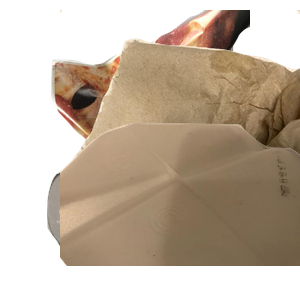glass: (44, 165, 178, 300)
paper: (49, 10, 289, 190)
plastic: (60, 120, 300, 300)
trash: (60, 10, 300, 190)
